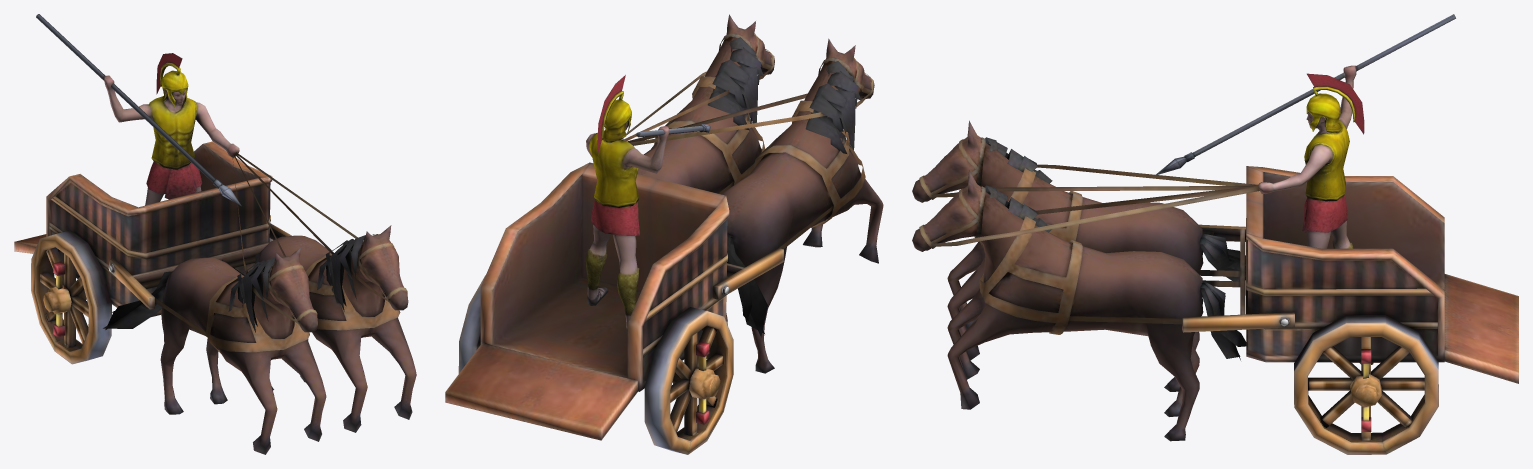
File: Chariot.glb
3 views of the same model, side by side, from view 1: azimuth 30°, elevation 25°; view 2: azimuth 150°, elevation 25°; view 3: azimuth 270°, elevation 25° (orthographic). The views are drawn at different scales.
Parts seen in each view (by area): view 1: horse, character; view 2: horse, character; view 3: horse, character.
Boxes of the visible parts, x1=… form: horse: x1=14, y1=141, x2=416, y2=454; character: x1=36, y1=14, x2=241, y2=206; horse: x1=445, y1=14, x2=883, y2=454; character: x1=585, y1=75, x2=710, y2=332; horse: x1=912, y1=120, x2=1518, y2=454; character: x1=1154, y1=14, x2=1455, y2=248.
Size of the model in its own units: 2.09 by 2.9 by 4.58.
Materials: 2 (2 with a texture image).
